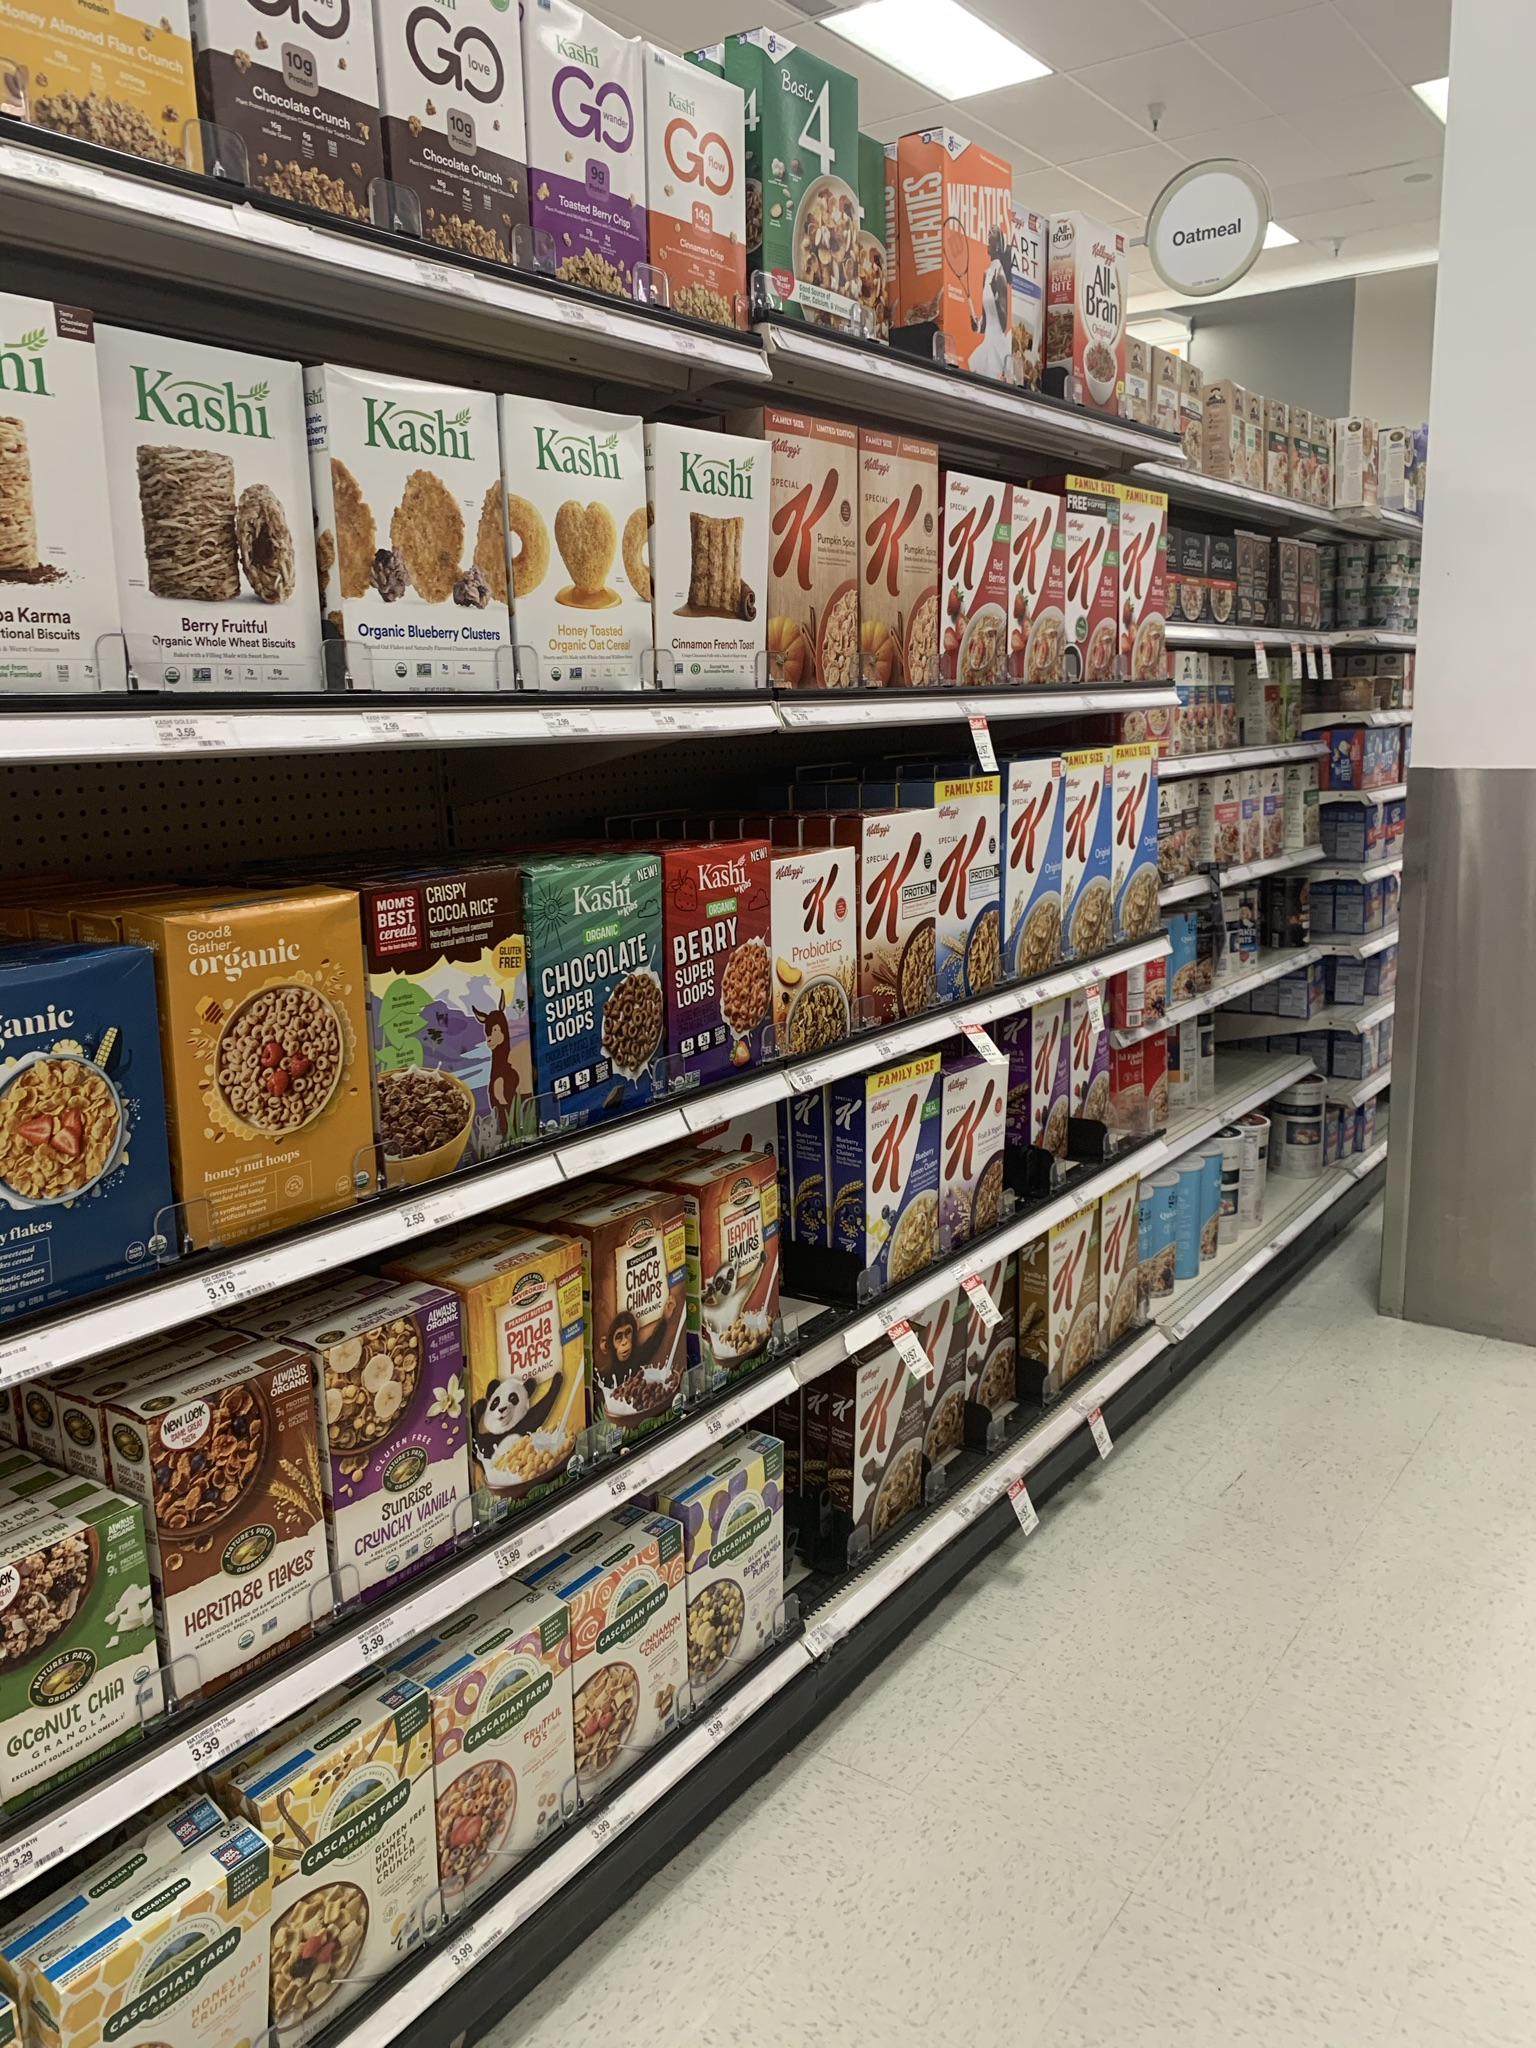cereal: (150, 919, 387, 1232), (150, 1364, 344, 1679), (363, 884, 542, 1161), (316, 1297, 471, 1606), (529, 871, 666, 1132), (461, 1280, 603, 1527), (763, 414, 862, 705), (663, 851, 779, 1093), (586, 1219, 708, 1438), (686, 1168, 795, 1384), (850, 427, 936, 698), (854, 1072, 954, 1287), (858, 814, 949, 1014), (774, 860, 870, 1043), (942, 466, 1018, 697), (931, 785, 1010, 993), (845, 1366, 929, 1555), (1020, 1013, 1099, 1208), (1010, 487, 1084, 687), (1008, 764, 1070, 968)
